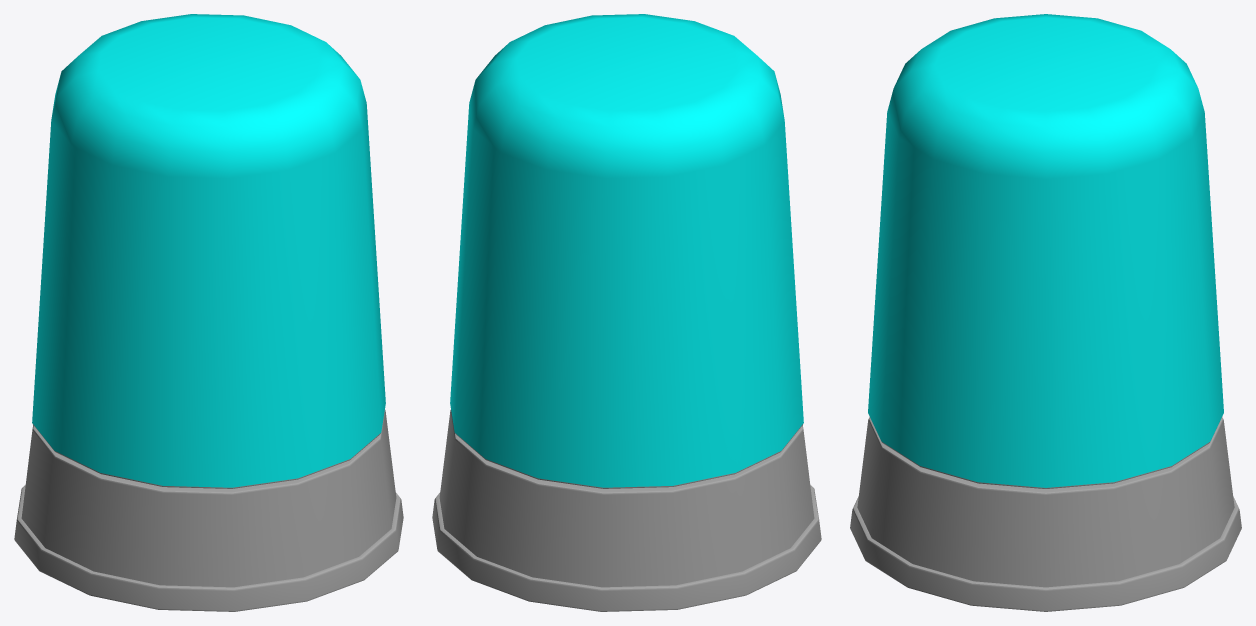
File: FlashingLight.fbx
3 views of the same model, side by side, from view 1: azimuth 30°, elevation 25°; view 2: azimuth 150°, elevation 25°; view 3: azimuth 270°, elevation 25° (orthographic).
Visible parts, largest first — view 1: FlashingLight; view 2: FlashingLight; view 3: FlashingLight.
Part boxes in pixels (box(x1,y1,x2,y2)): FlashingLight: box(14, 14, 403, 611); FlashingLight: box(432, 14, 821, 611); FlashingLight: box(850, 14, 1241, 611).
Bounding box in the file's own units: 6.85 × 8.97 × 6.85.
